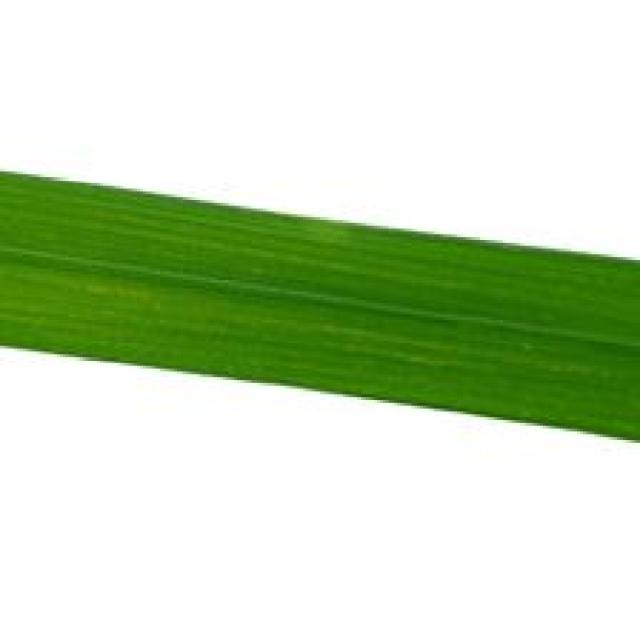Rice___Healthy_Rice_Plant: (0, 171, 637, 445)
